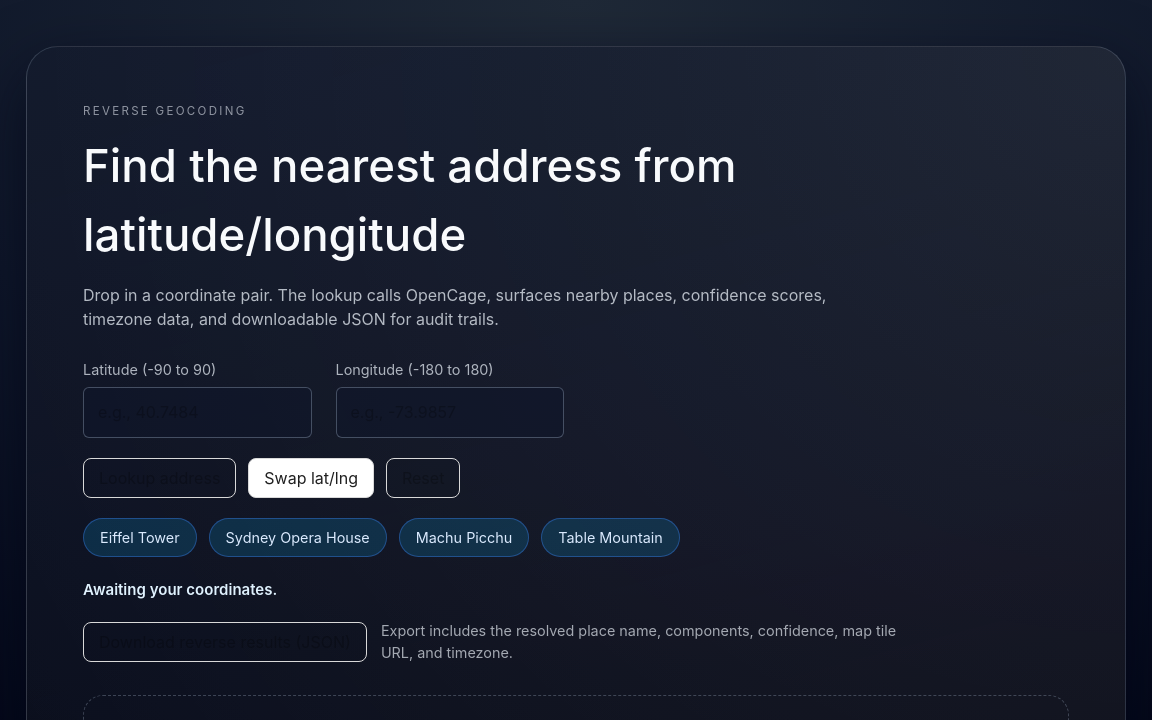
ReverseGeocodeDemo › swaps coordinate inputs (positive)
Type "12" into the field labelled "Latitude (-90 to 90)" at point(197, 412), box top-left (83, 387), bottom-right (312, 438)
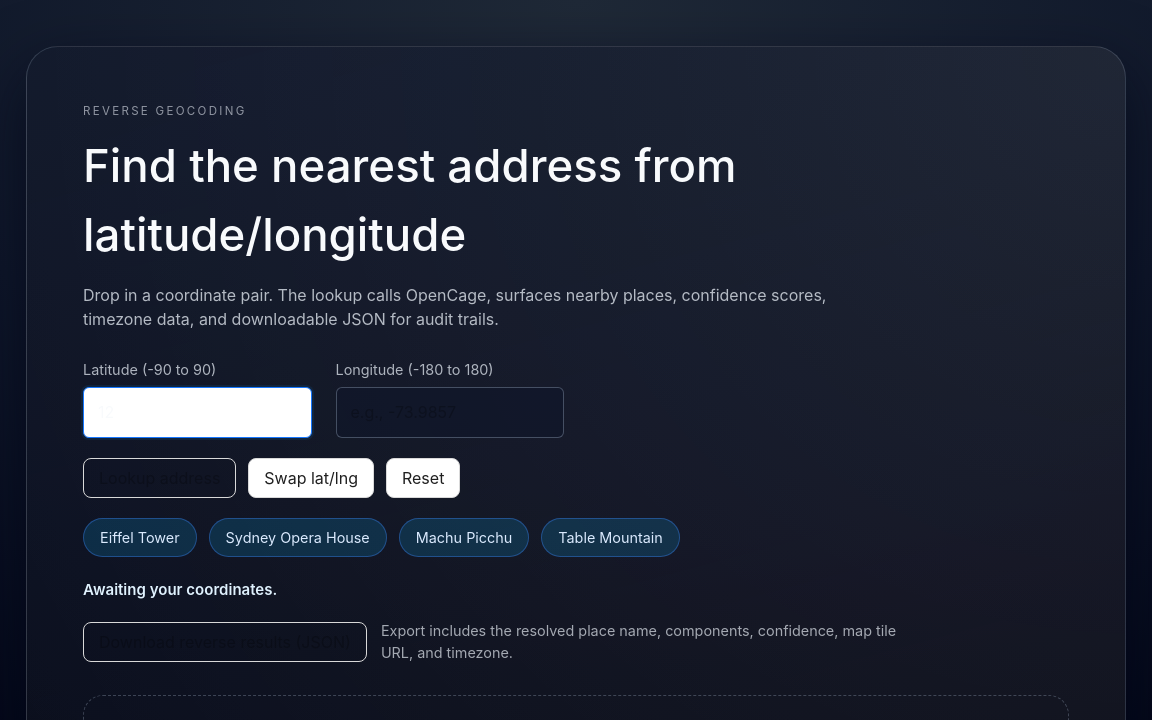
Type "34" into the field labelled "Longitude (-180 to 180)" at point(450, 412), box top-left (336, 387), bottom-right (564, 438)
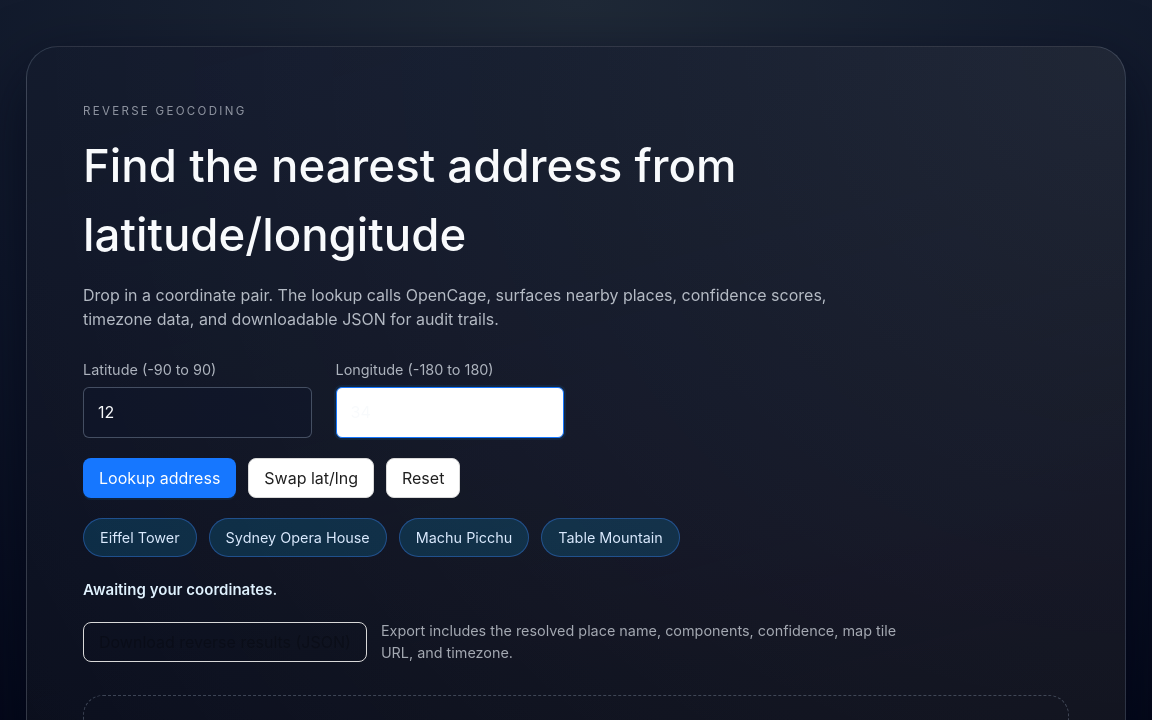
Click the button "Swap lat/lng" at point(311, 478), box top-left (248, 458), bottom-right (374, 498)
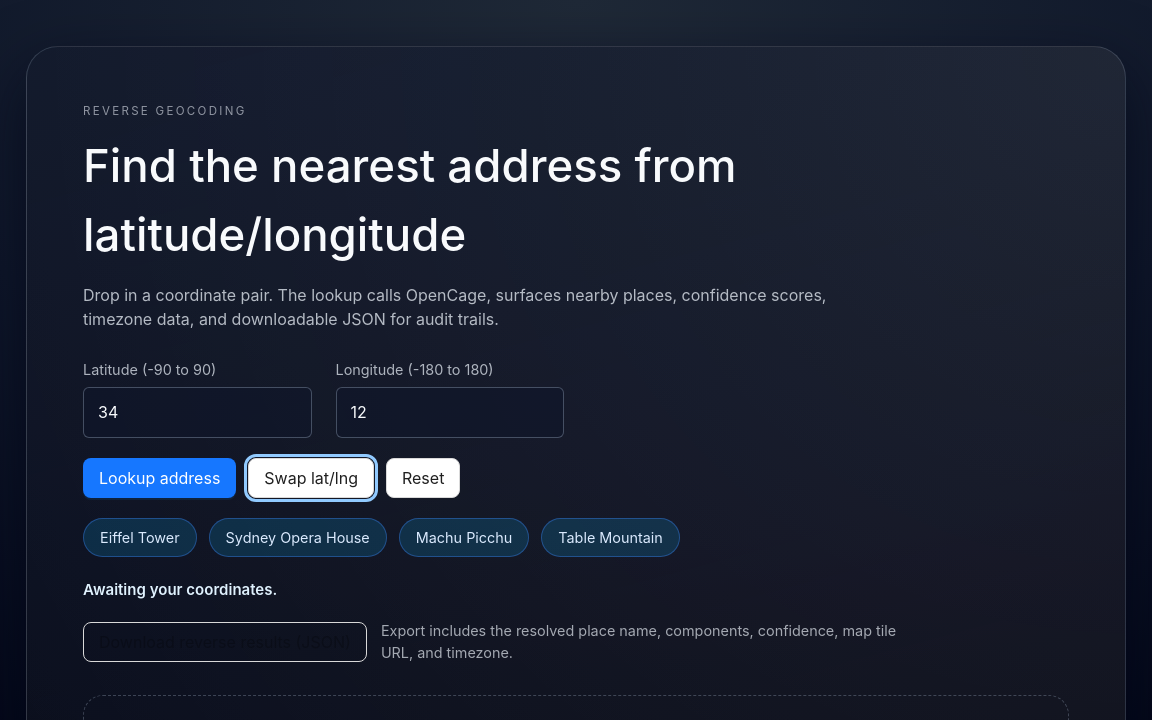
Check: the field labelled "Latitude (-90 to 90)" holds "34", box top-left (83, 387), bottom-right (312, 438)
Check: the field labelled "Longitude (-180 to 180)" holds "12", box top-left (336, 387), bottom-right (564, 438)
